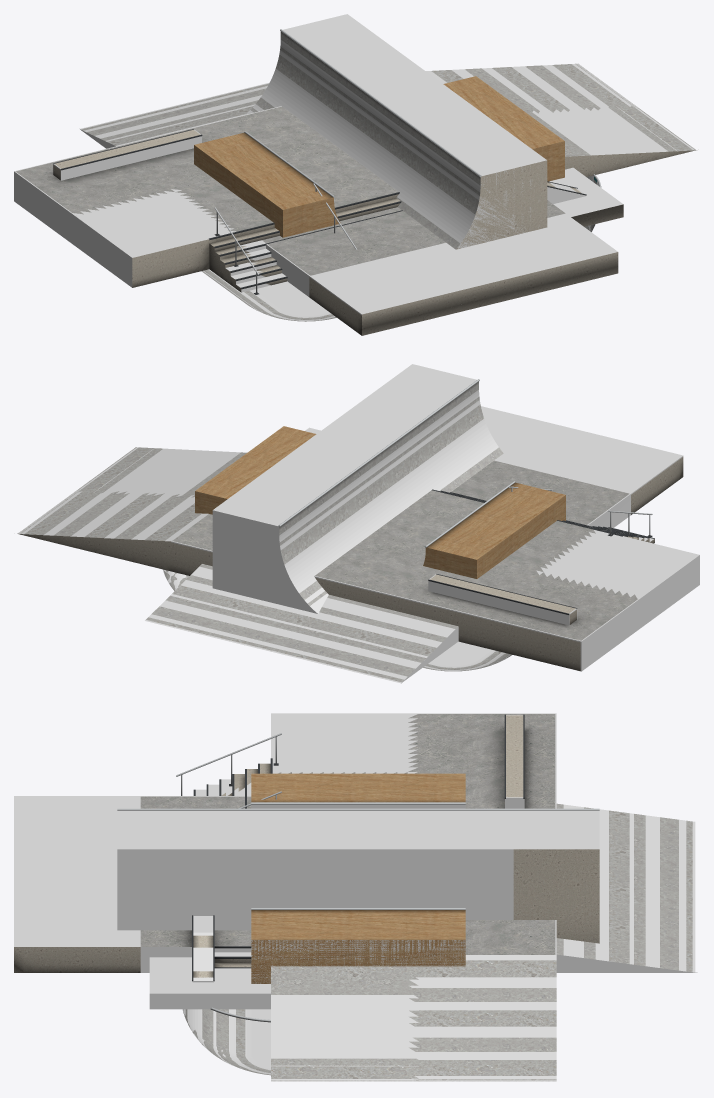
File: foundry_pieces.glb
3 renders of one model, top to bottom at view 1: azimuth 30°, elevation 25°; view 2: azimuth 150°, elevation 25°; view 3: azimuth 270°, elevation 25°, orthographic. The views are drawn at different scales.
Parts seen in each view (by area): view 1: seven_stairs_look, COL_big_quarter, COL_seven_stairs, five_stairs_look, COL_five_stairs, big_quarter_look, mini_ramp_look, COL_foundry_bowl, COL_three_stairs, foundry_bowl_look, three_stairs_look; view 2: seven_stairs_look, COL_big_quarter, COL_seven_stairs, COL_five_stairs, five_stairs_look, mini_ramp_look, big_quarter_look, COL_foundry_bowl, foundry_bowl_look; view 3: COL_big_quarter, seven_stairs_look, COL_five_stairs, COL_seven_stairs, mini_ramp_look, five_stairs_look, big_quarter_look, COL_three_stairs, COL_mini_ramp, COL_foundry_bowl, foundry_bowl_look.
Boxes of the visible parts, <box> form: seven_stairs_look: <box>16,63,696,294</box>; COL_big_quarter: <box>245,14,546,248</box>; COL_seven_stairs: <box>14,63,694,292</box>; five_stairs_look: <box>81,83,618,335</box>; COL_five_stairs: <box>80,82,617,315</box>; big_quarter_look: <box>250,29,547,249</box>; mini_ramp_look: <box>194,76,564,237</box>; COL_foundry_bowl: <box>203,175,598,320</box>; COL_three_stairs: <box>549,167,622,216</box>; foundry_bowl_look: <box>201,174,601,321</box>; three_stairs_look: <box>571,204,623,226</box>; seven_stairs_look: <box>17,447,654,671</box>; COL_big_quarter: <box>212,364,498,613</box>; COL_seven_stairs: <box>18,447,699,671</box>; COL_five_stairs: <box>145,406,683,683</box>; five_stairs_look: <box>146,457,683,682</box>; mini_ramp_look: <box>195,426,565,578</box>; big_quarter_look: <box>278,379,503,605</box>; COL_foundry_bowl: <box>162,569,510,670</box>; foundry_bowl_look: <box>164,570,512,671</box>; COL_big_quarter: <box>117,810,599,930</box>; seven_stairs_look: <box>176,714,556,1081</box>; COL_five_stairs: <box>14,796,697,982</box>; COL_seven_stairs: <box>195,713,556,1080</box>; mini_ramp_look: <box>251,773,465,983</box>; five_stairs_look: <box>14,796,692,981</box>; big_quarter_look: <box>117,808,599,943</box>; COL_three_stairs: <box>149,957,270,1009</box>; COL_mini_ramp: <box>251,805,465,983</box>; COL_foundry_bowl: <box>182,1009,270,1075</box>; foundry_bowl_look: <box>183,1007,270,1075</box>.
Bounding box in the file's own units: 22.14 × 5.75 × 19.21.
7 materials, 4 textured.
